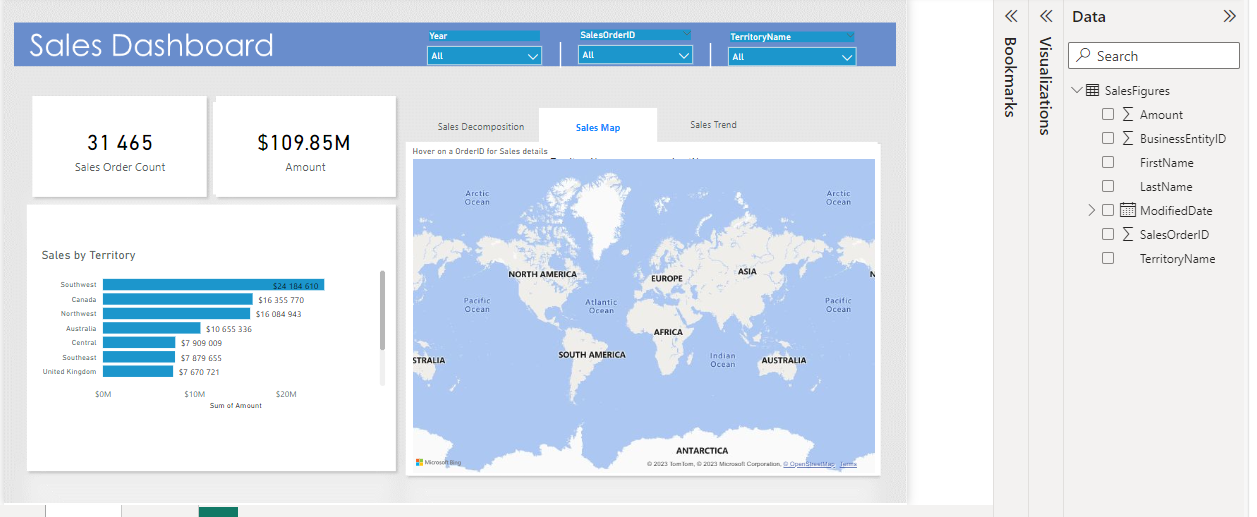

Layout of this report page (visuals, bound fields, positions):
{"tool":"powerbi","page":{"name":"Page 1","canvas":[1280,720],"ordinal":0},"visuals":[{"type":"card","fields":{"Values":["CountNonNull(Sales vSalesFigures.SalesOrderID)"]},"box":[44.6,149.1,241,131],"z":0},{"type":"actionButton","title":" Bttn : Sales Decomposition","box":[592.7,170.3,167.5,53.8],"z":0,"group":"g1"},{"type":"card","fields":{"Values":["Sum(Sales vSalesFigures.Amount)"]},"box":[296.7,149.1,257.7,131],"z":1000},{"type":"actionButton","title":"Bttn : Sales Map","box":[760.2,170.3,167.5,53.8],"z":1000,"group":"g1"},{"type":"actionButton","title":"Bttn : Sales Trend","box":[921,158,167.5,52],"z":2000,"group":"g2"},{"type":"clusteredBarChart","fields":{"Category":["Sales vSalesFigures.TerritoryName"],"Y":["Sum(Sales vSalesFigures.Amount)"]},"box":[47.6,349.9,497.5,239.2],"z":2000},{"type":"slicer","title":"Slicer Year","fields":{"Values":["Sales vSalesFigures.ModifiedDate.Variation.Date Hierarchy.Year"]},"box":[590.3,42.8,183.3,57.1],"z":3000},{"type":"slicer","title":"Slicer SalesOrderID","fields":{"Values":["Sales vSalesFigures.SalesOrderID"]},"box":[803.3,41.7,183.3,59.5],"z":4000},{"type":"slicer","title":"Slicer Territory Name","fields":{"Values":["Sales vSalesFigures.TerritoryName"]},"box":[1016.3,44,202.3,57.1],"z":5000},{"type":"shape","title":"Shape Line","box":[986.6,65.5,29.8,35.7],"z":6000},{"type":"shape","title":"Shape Line","box":[773.6,63.1,29.8,36.9],"z":7000},{"type":"group","id":"g1","title":"Buttons Inactive","box":[592.7,167.8,496.3,55.9],"z":8000},{"type":"group","id":"g2","title":"Buttons Active","box":[591,158,497.5,53.8],"z":9000},{"type":"lineClusteredColumnComboChart","fields":{"Category":["Sales vSalesFigures.ModifiedDate.Variation.Date Hierarchy.Month"],"Y":["Sum(Sales vSalesFigures.Amount)","CountNonNull(Sales vSalesFigures.SalesOrderID)"]},"box":[570,208.8,667.5,232.5],"z":13000},{"type":"shape","box":[570,446.2,667.5,16.2],"z":14000},{"type":"textbox","box":[570,441.2,667.5,245],"z":15000},{"type":"shape","box":[570,280,667.5,322.5],"z":16000}]}

Visuals, with their boxes on the page's 1280x720 design canvas (x1, y1, x2, y2). These are canvas units, not pixel positions in the 1257x517 screenshot, which may show the page scaled, cropped or inside an application window:
card - CountNonNull(Sales vSalesFigures.SalesOrderID): <box>45,149,286,280</box>
" Bttn : Sales Decomposition" actionButton: <box>593,170,760,224</box>
card - Sum(Sales vSalesFigures.Amount): <box>297,149,554,280</box>
"Bttn : Sales Map" actionButton: <box>760,170,928,224</box>
"Bttn : Sales Trend" actionButton: <box>921,158,1088,210</box>
clusteredBarChart - Sales vSalesFigures.TerritoryName x Sum(Sales vSalesFigures.Amount): <box>48,350,545,589</box>
"Slicer Year" slicer: <box>590,43,774,100</box>
"Slicer SalesOrderID" slicer: <box>803,42,987,101</box>
"Slicer Territory Name" slicer: <box>1016,44,1219,101</box>
"Shape Line" shape: <box>987,66,1016,101</box>
"Shape Line" shape: <box>774,63,803,100</box>
"Buttons Inactive" group: <box>593,168,1089,224</box>
"Buttons Active" group: <box>591,158,1088,212</box>
lineClusteredColumnComboChart - Sales vSalesFigures.ModifiedDate.Variation.Date Hierarchy.Month x Sum(Sales vSalesFigures.Amount): <box>570,209,1238,441</box>
shape: <box>570,446,1238,462</box>
textbox: <box>570,441,1238,686</box>
shape: <box>570,280,1238,602</box>
